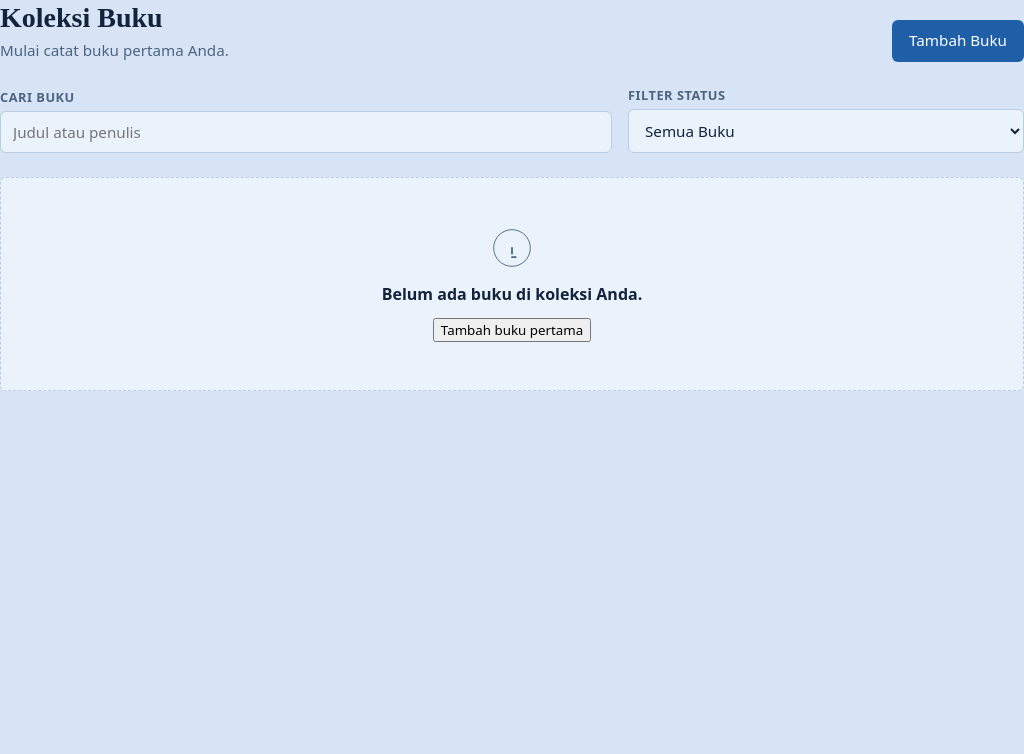
Test: Home — form tambah buku › menampilkan error ketika judul dan penulis kosong, dan tidak menyimpan
The width and height of the screenshot is (1024, 754).
Click the button "Tambah Buku": (958,41) [892,20,1023,62]
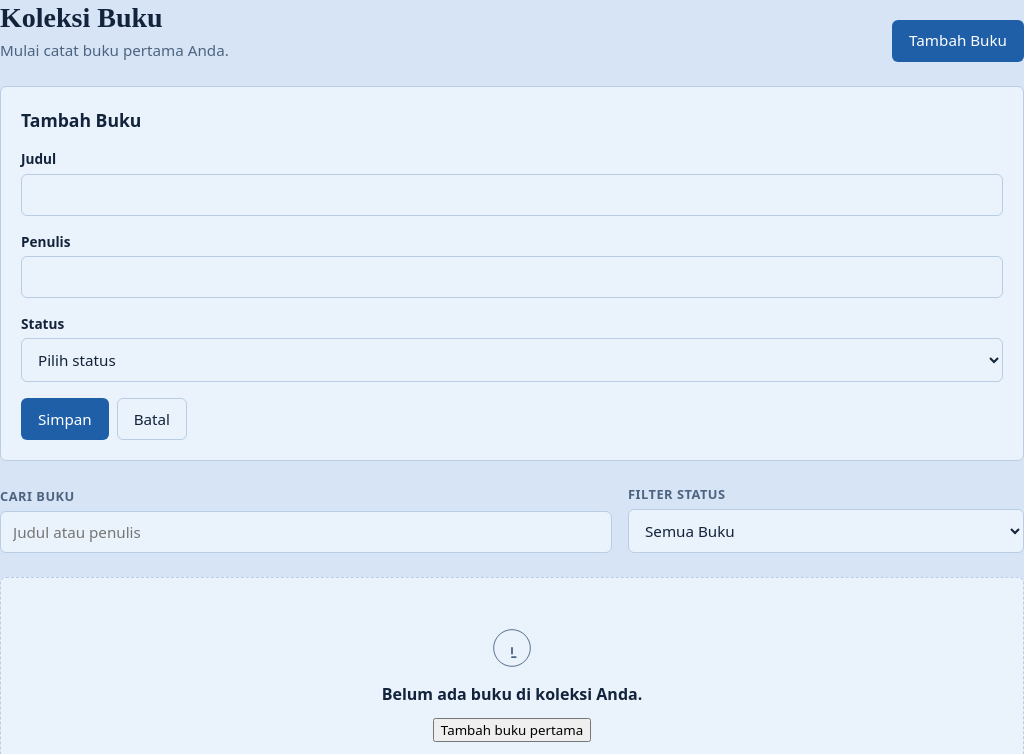
# Klik simpan tanpa mengisi apa-apa.
Click the button "Simpan": (65,419) [21,398,109,440]
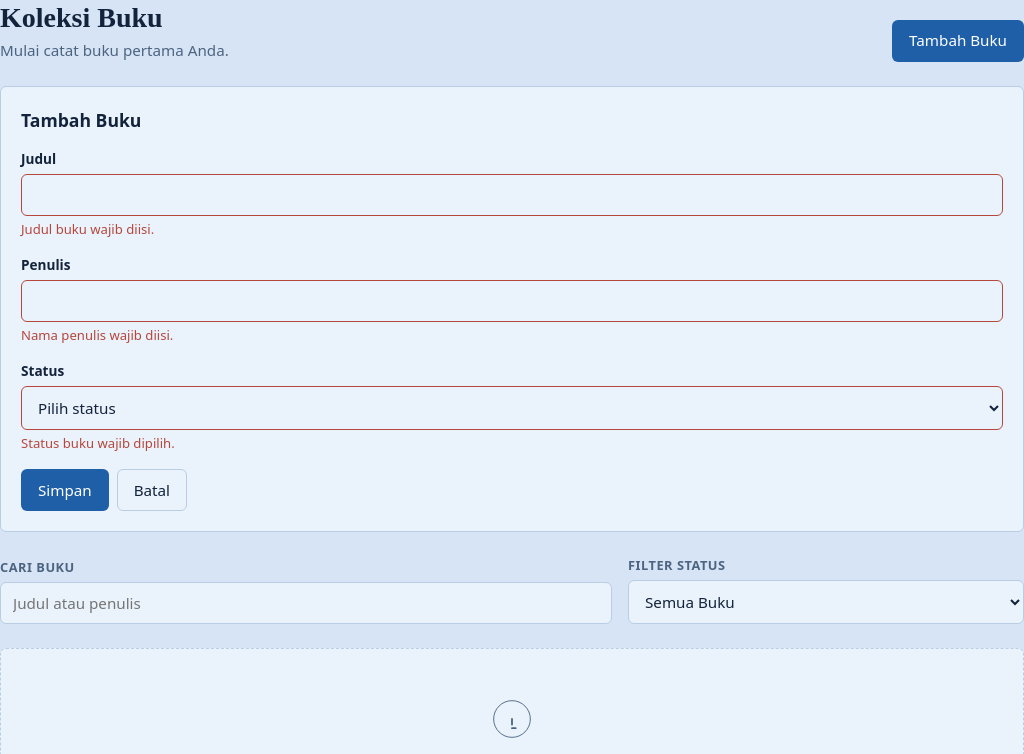
Expected: the text "Judul buku wajib diisi." is shown, [21,220,154,238]
Expected: the text "Nama penulis wajib diisi." is shown, [21,326,173,344]
Expected: the text "Status buku wajib dipilih." is shown, [21,434,175,452]
